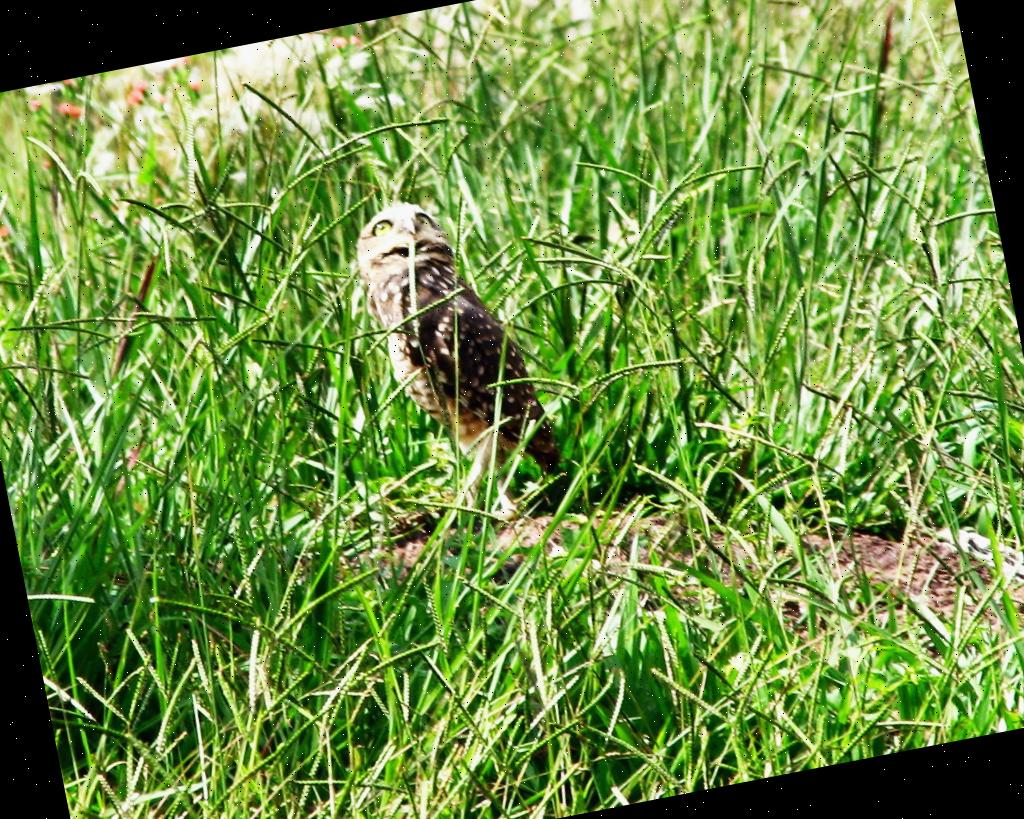Owl: (346, 174, 572, 541)
